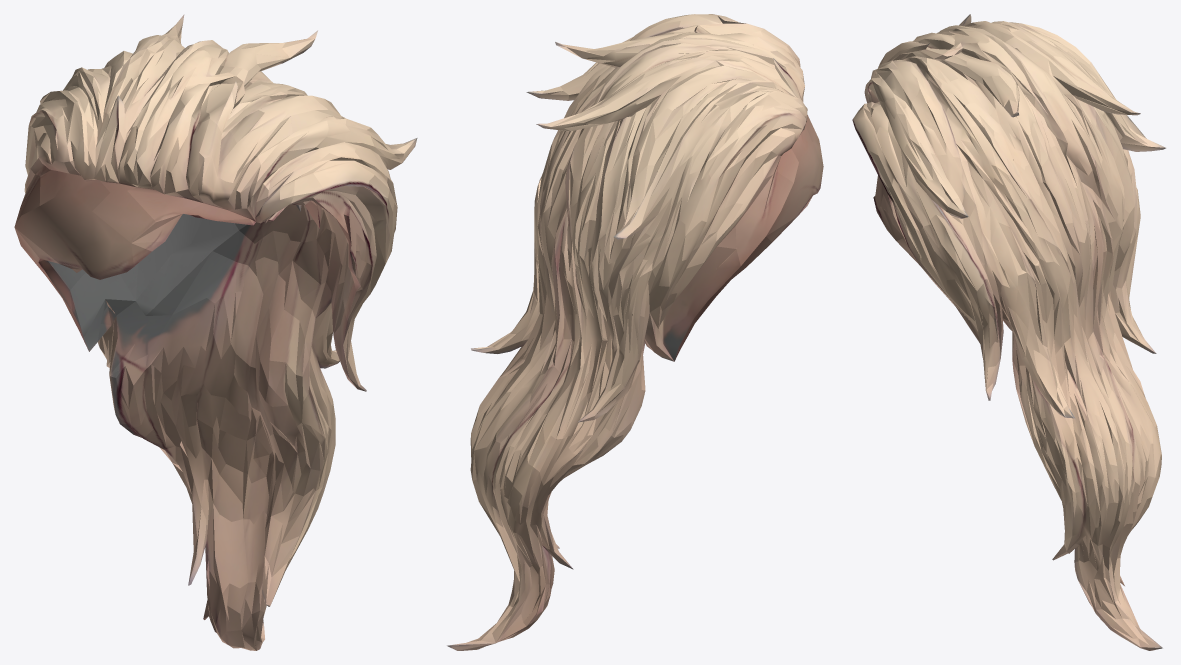
The model's file is fennal_f-cote-rase.glb.
The picture shows the model from 3 angles, left to right: view 1: azimuth 30°, elevation 25°; view 2: azimuth 150°, elevation 25°; view 3: azimuth 270°, elevation 25°; orthographic projection. The views are drawn at different scales.
Parts seen in each view (by area): view 1: geometry_0; view 2: geometry_0; view 3: geometry_0.
Part boxes in pixels (<box>): geometry_0: <box>14,14,417,650</box>; geometry_0: <box>447,14,823,650</box>; geometry_0: <box>852,14,1165,650</box>.
Size of the model in its own units: 0.9909 by 1.9 by 0.9838.
Materials: 1 (1 with a texture image).
